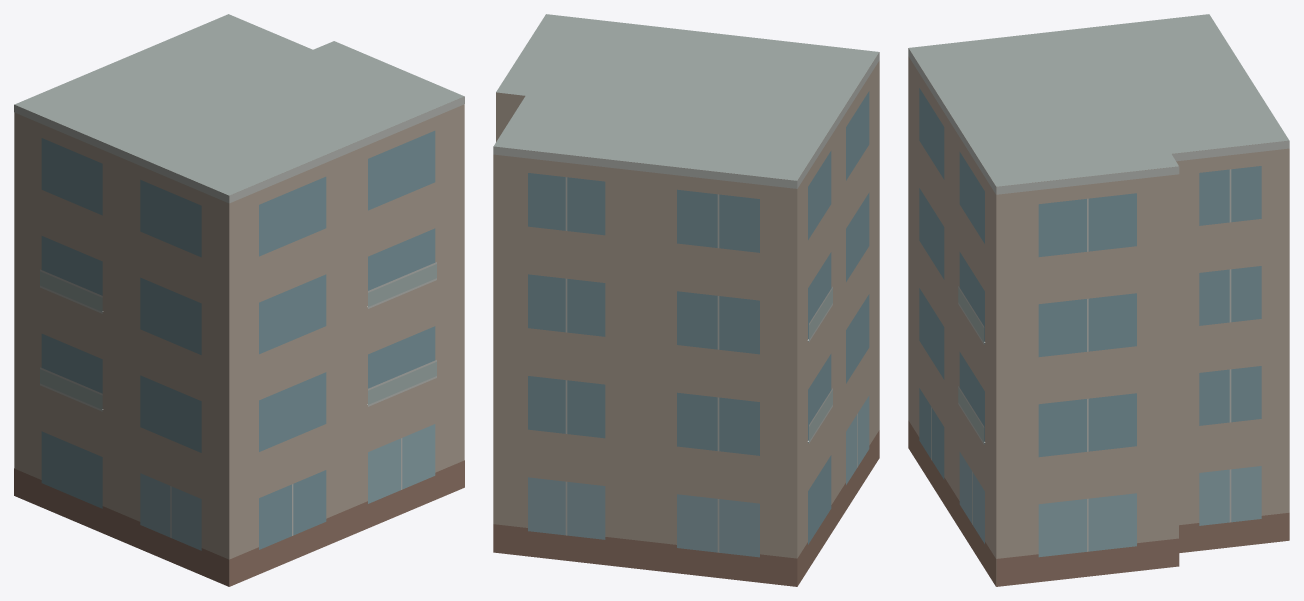
File: residential-83c86717-f5f1-4896-b43a-bd05b87c15f9.glb
3 renders of one model, left to right at view 1: azimuth 30°, elevation 25°; view 2: azimuth 150°, elevation 25°; view 3: azimuth 270°, elevation 25°, orthographic. The views are drawn at different scales.
Visible parts, largest first — view 1: residential-83c86717-f5f1-4896-b43a-bd05b87c15f9.tmp; view 2: residential-83c86717-f5f1-4896-b43a-bd05b87c15f9.tmp; view 3: residential-83c86717-f5f1-4896-b43a-bd05b87c15f9.tmp.
Part boxes in pixels (x1,y1,x2,y2): residential-83c86717-f5f1-4896-b43a-bd05b87c15f9.tmp: [14, 14, 464, 586]; residential-83c86717-f5f1-4896-b43a-bd05b87c15f9.tmp: [493, 14, 879, 586]; residential-83c86717-f5f1-4896-b43a-bd05b87c15f9.tmp: [908, 14, 1289, 586].
Bounding box in the file's own units: 11.31 × 12.2 × 10.54.
